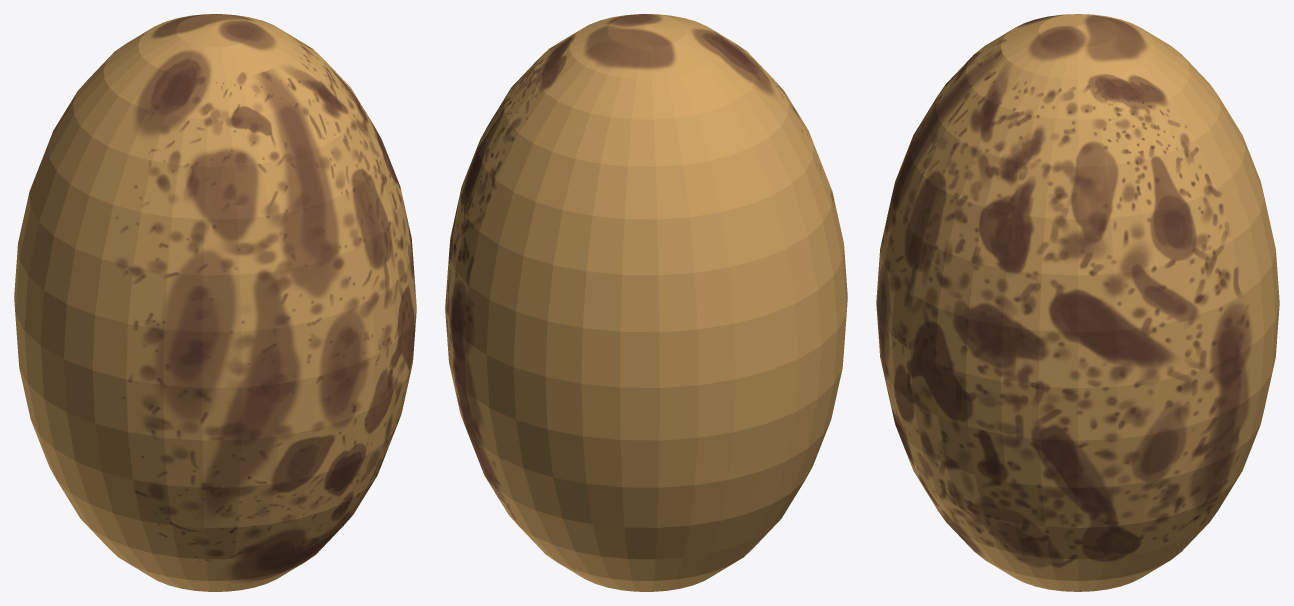
The model's file is egg.fbx.
3 renders of one model, left to right at view 1: azimuth 30°, elevation 25°; view 2: azimuth 150°, elevation 25°; view 3: azimuth 270°, elevation 25°, orthographic.
Parts seen in each view (by area): view 1: Sphere; view 2: Sphere; view 3: Sphere.
Part boxes in pixels (x1,y1,x2,y2): Sphere: (14,14,416,591); Sphere: (445,14,847,591); Sphere: (876,14,1279,591).
Size of the model in its own units: 200 by 304 by 200.
Materials: 1 (1 with a texture image).
